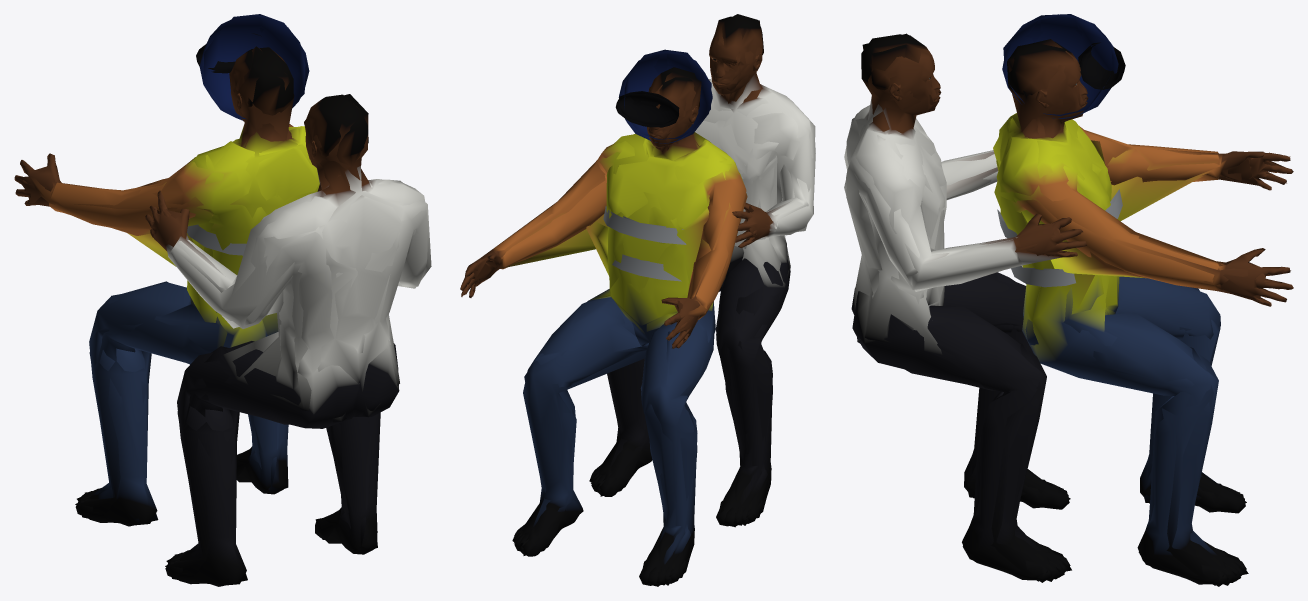
File: wewa.glb
The picture shows the model from 3 angles, left to right: view 1: azimuth 30°, elevation 25°; view 2: azimuth 150°, elevation 25°; view 3: azimuth 270°, elevation 25°; orthographic projection. The views are drawn at different scales.
Parts seen in each view (by area): view 1: passager_h, conducteur_h, passager_l, conducteur_l; view 2: conducteur_h, passager_h, conducteur_l, passager_l; view 3: conducteur_h, passager_h, conducteur_l, passager_l.
Boxes of the visible parts, x1=… form: passager_h: x1=145, y1=94, x2=427, y2=586; conducteur_h: x1=14, y1=15, x2=319, y2=526; passager_l: x1=145, y1=94, x2=431, y2=584; conducteur_l: x1=16, y1=14, x2=319, y2=524; conducteur_h: x1=460, y1=51, x2=746, y2=586; passager_h: x1=589, y1=14, x2=815, y2=527; conducteur_l: x1=462, y1=49, x2=747, y2=585; passager_l: x1=591, y1=16, x2=815, y2=525; conducteur_h: x1=996, y1=14, x2=1293, y2=586; passager_h: x1=846, y1=34, x2=1086, y2=582; conducteur_l: x1=993, y1=14, x2=1293, y2=585; passager_l: x1=844, y1=33, x2=1081, y2=581.
Bounding box in the file's own units: 0.7442 × 1.5 × 1.16.
